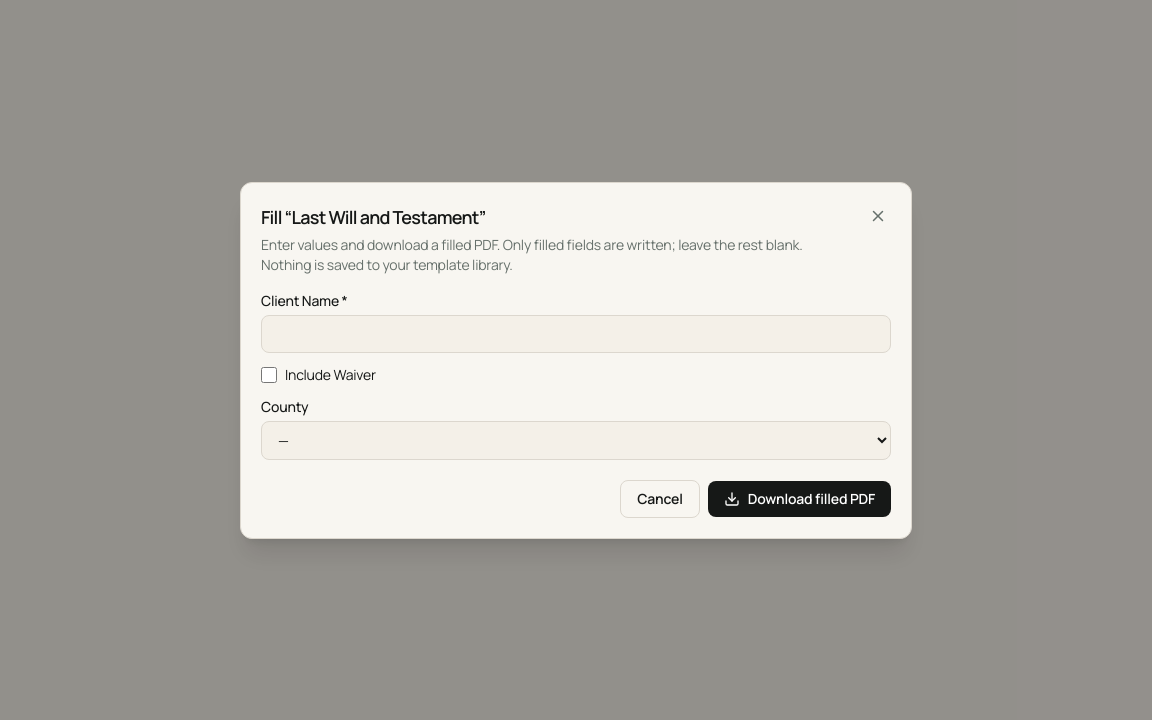
Scenario: SampleFillDialog › keeps the dialog open with an alert when filling fails
The image size is (1152, 720).
Click the button "Download filled PDF" at (799, 498), box [708, 480, 891, 516]
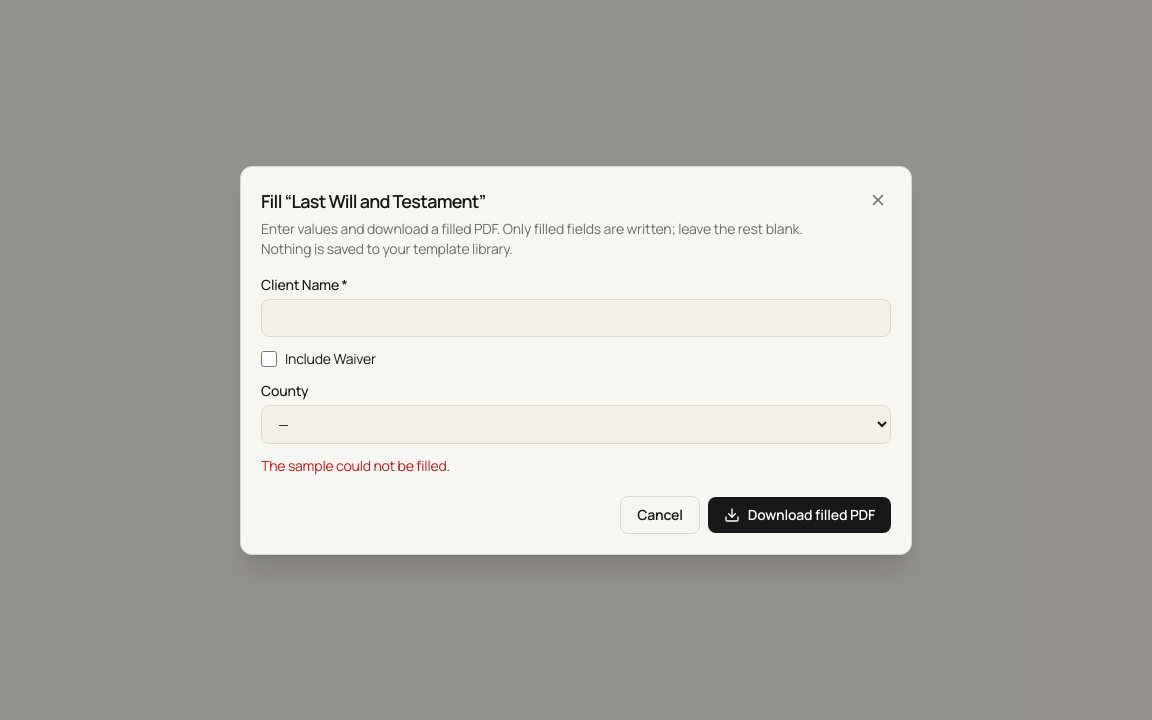
Expected: the message shows "could not be filled", [261, 456, 450, 474]
